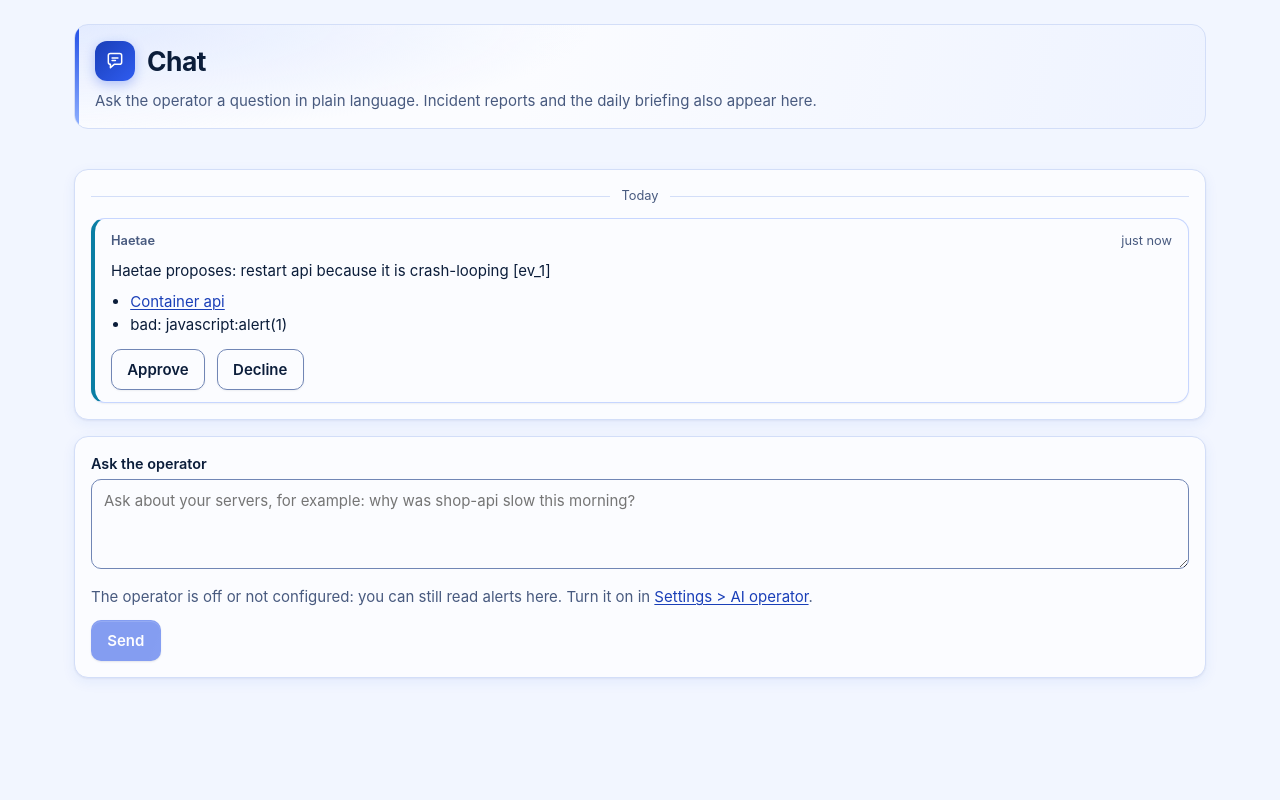
Test: operator messages in chat › approval buttons post the action and retire both buttons
Click the button "Approve" at (158, 369), box [111,349,205,390]
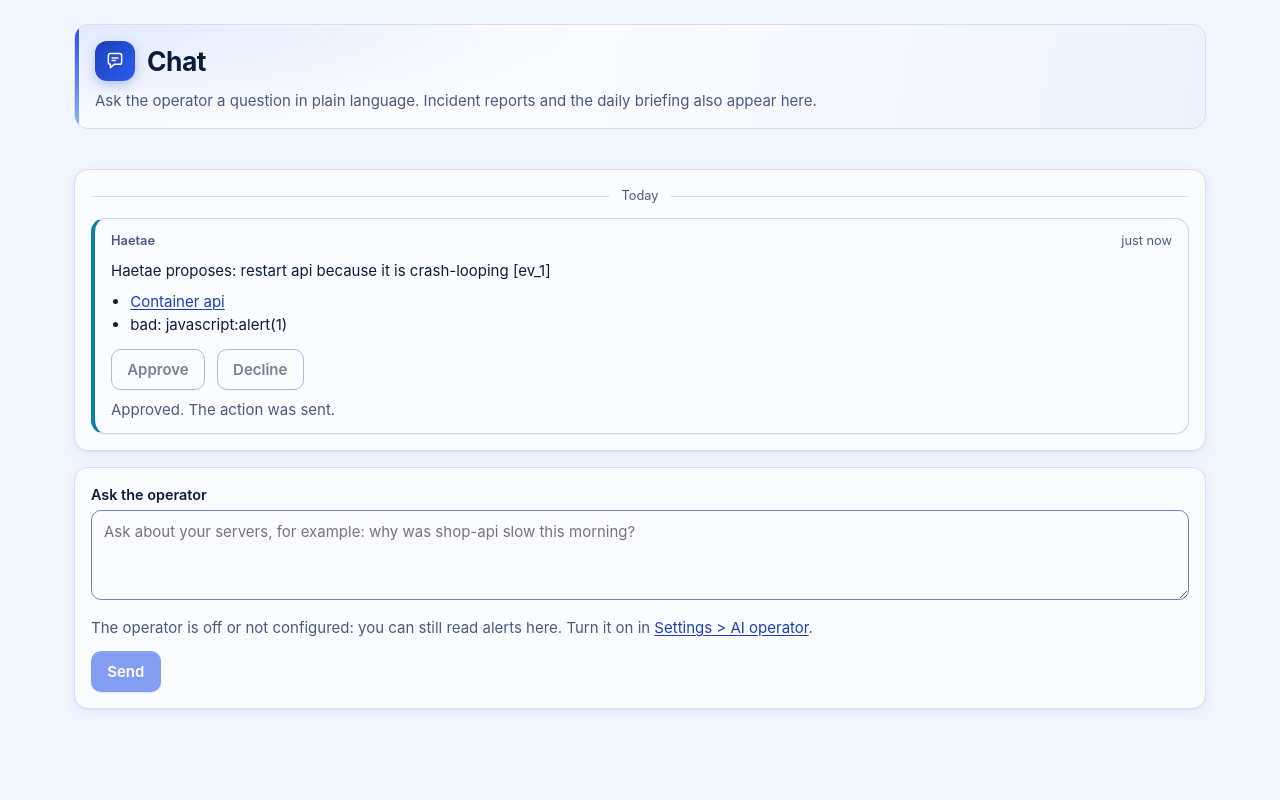
Result: the text "Approved. The action was sent." is shown at [111,400,335,419]
Result: the button "Approve" is disabled at [111,349,205,390]
Result: the button "Decline" is disabled at [217,349,304,390]
